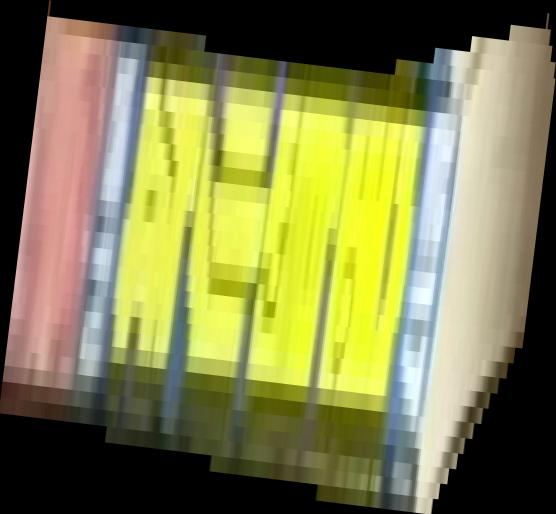flat: (1, 1, 556, 514)
